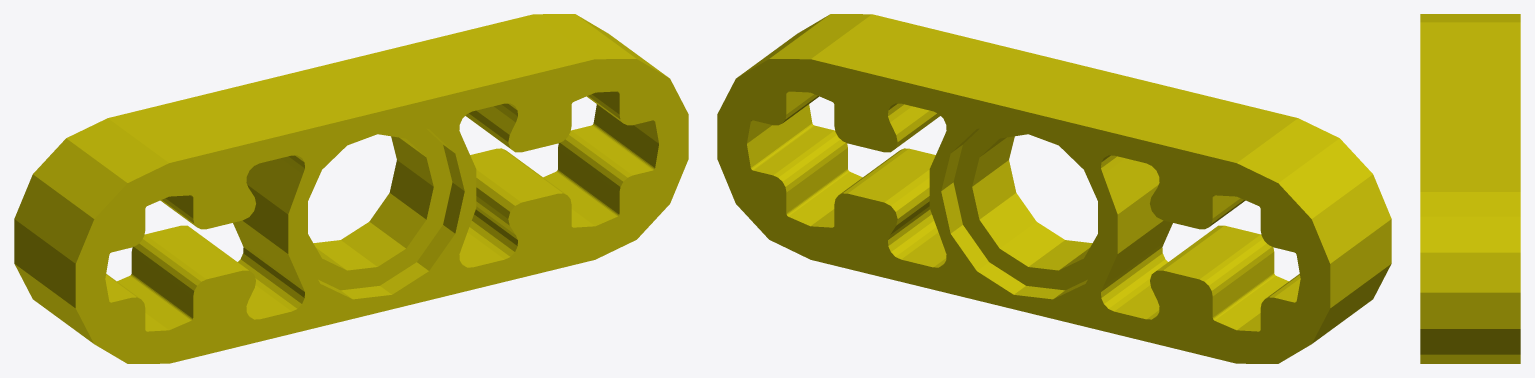
Rendered from Ye_4107823_AVV.fbx.
3 renders of one model, left to right at view 1: azimuth 30°, elevation 25°; view 2: azimuth 150°, elevation 25°; view 3: azimuth 270°, elevation 25°, orthographic. The views are drawn at different scales.
Parts seen in each view (by area): view 1: Ye_4107823_AVV; view 2: Ye_4107823_AVV; view 3: Ye_4107823_AVV.
Boxes of the visible parts, x1=… form: Ye_4107823_AVV: x1=14, y1=14, x2=688, y2=363; Ye_4107823_AVV: x1=717, y1=14, x2=1391, y2=363; Ye_4107823_AVV: x1=1420, y1=14, x2=1520, y2=363.
Bounding box in the file's own units: 2.3 × 0.72 × 0.4.
